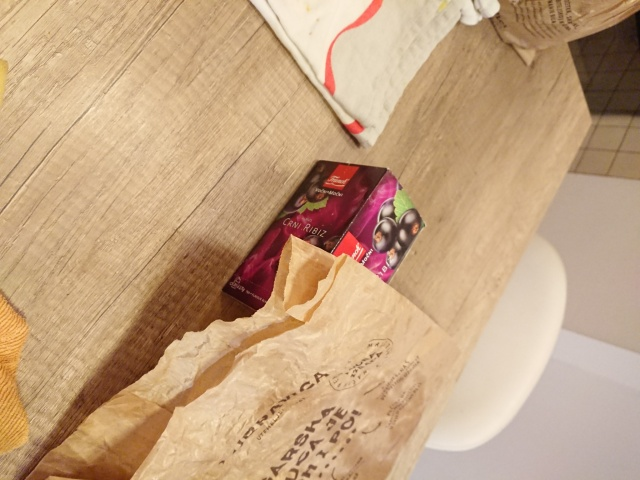Franck Black Currant Tea 60g: (218, 158, 429, 340)
